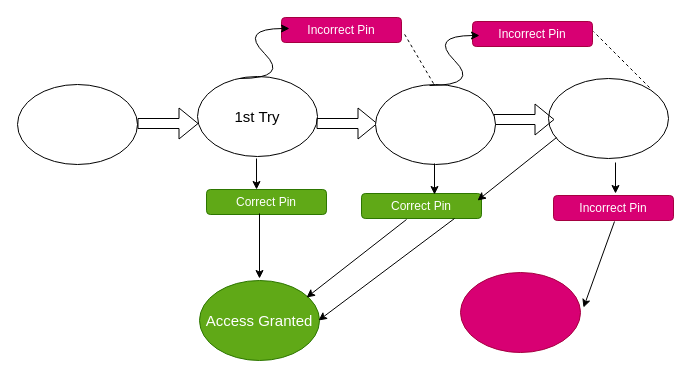
This 691x378 diagram has some shape labels left out. Here are the shapes that lost their labels. From the top down, the centre of each, then its label:
At point 77,124: "Start".
At point 435,124: "2nd Try".
At point 608,118: "3rd Try".
At point 520,312: "Account Blocked".
